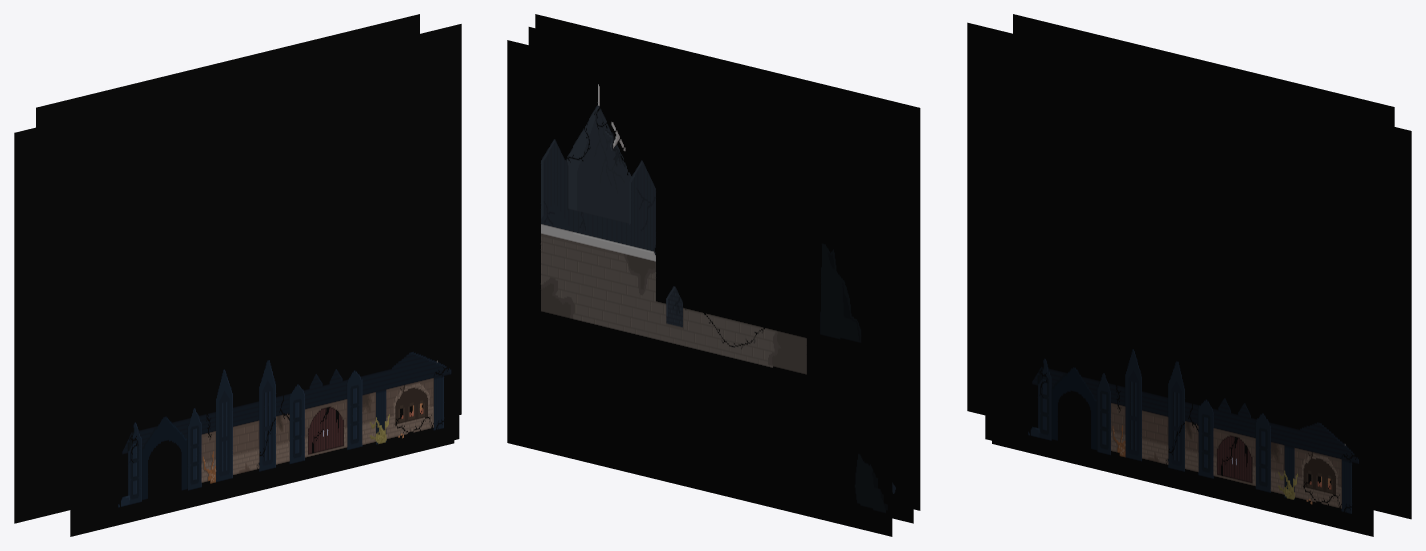
Rendered from CathedralWIP.fbx.
3 views of the same model, side by side, from view 1: azimuth 30°, elevation 25°; view 2: azimuth 150°, elevation 25°; view 3: azimuth 330°, elevation 25° (orthographic).
Parts seen in each view (by area): view 1: Front, Eye, Back, Tentacles; view 2: Back, Tentacles, Front; view 3: Front, Eye, Back, Tentacles.
Part boxes in pixels (x1,y1,x2,y2): Front: [75, 37, 459, 532]; Eye: [14, 24, 461, 523]; Back: [36, 14, 419, 127]; Tentacles: [70, 134, 454, 536]; Back: [507, 40, 892, 536]; Tentacles: [528, 27, 913, 523]; Front: [535, 14, 920, 510]; Front: [985, 40, 1366, 531]; Eye: [967, 22, 1411, 519]; Back: [1013, 14, 1394, 126]; Tentacles: [992, 136, 1373, 536].
Size of the model in its own units: 24.28 by 21.3 by 3.16.
Materials: 5 (5 with a texture image).
